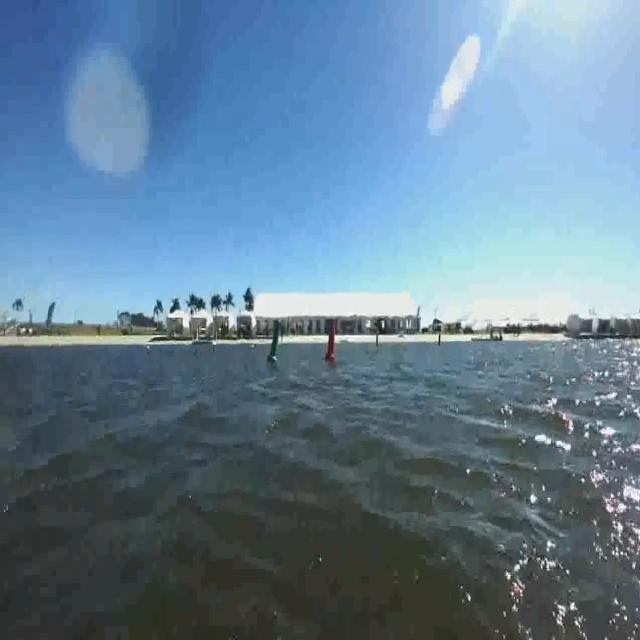green-column-buoy: (268, 320, 284, 365)
red-column-buoy: (327, 321, 343, 365)
